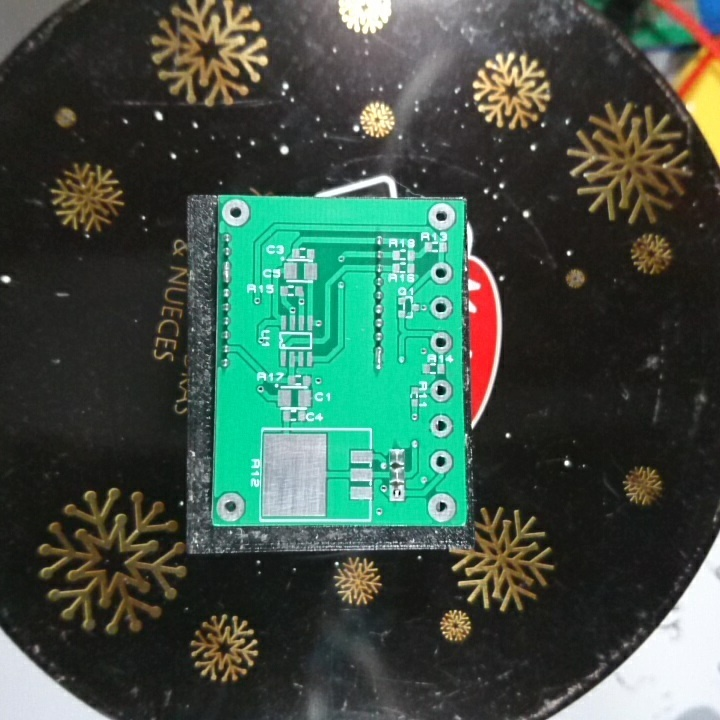F: (424, 200, 461, 234), (213, 489, 248, 521), (219, 197, 253, 229), (426, 490, 457, 524), (426, 411, 456, 441), (427, 292, 456, 322), (427, 449, 456, 478), (427, 328, 456, 355), (427, 380, 456, 405), (428, 260, 455, 286), (387, 483, 409, 506)
P: (370, 342, 390, 374), (219, 257, 235, 286)
